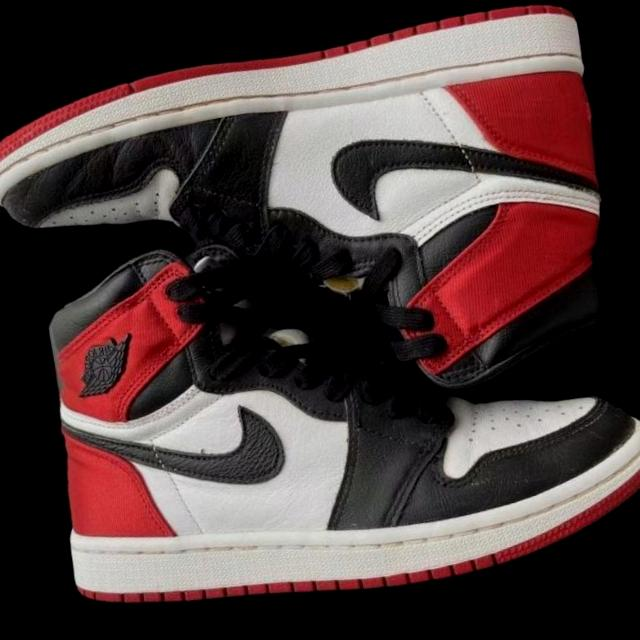nike_original_jordan: (0, 0, 635, 467), (17, 166, 640, 640)
